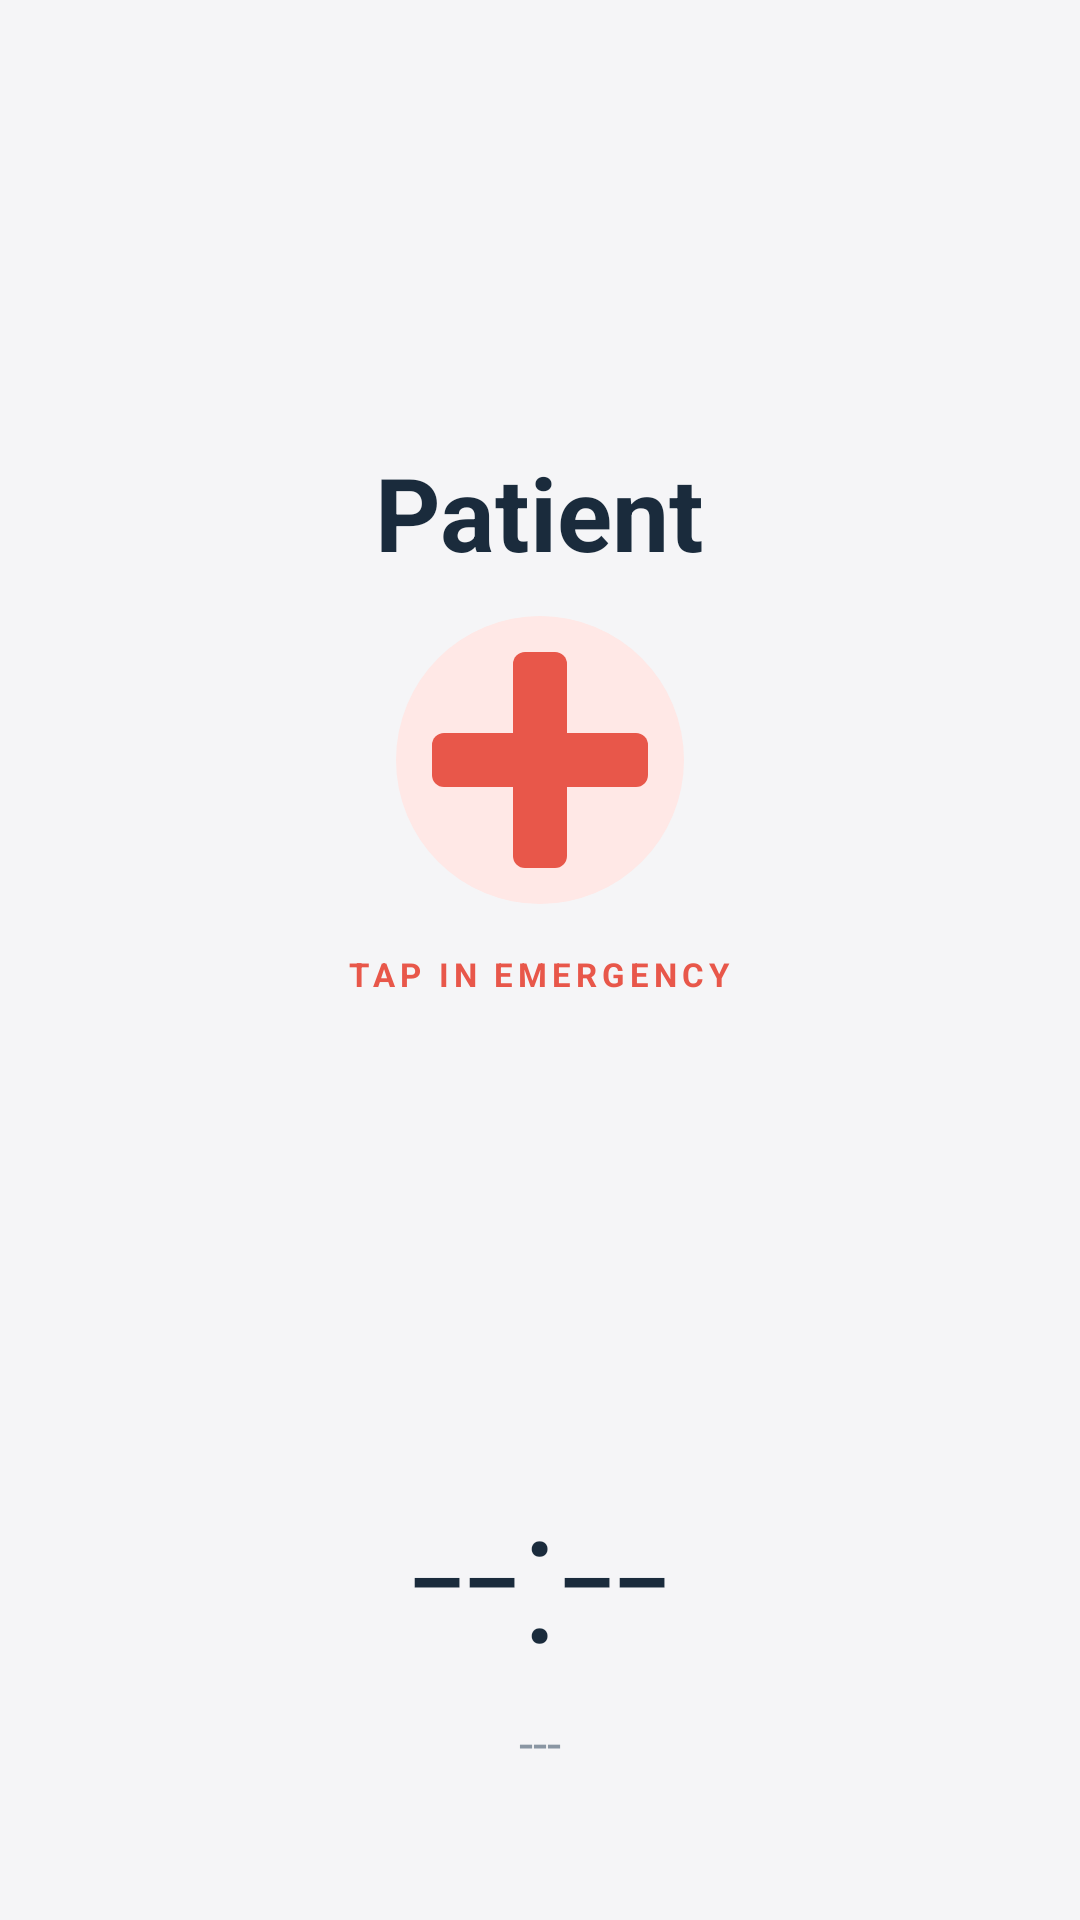

Point at icon controls on the screen. Image size 1080x1920, points as point (x, y).
SOS Cross: point (540, 760)
